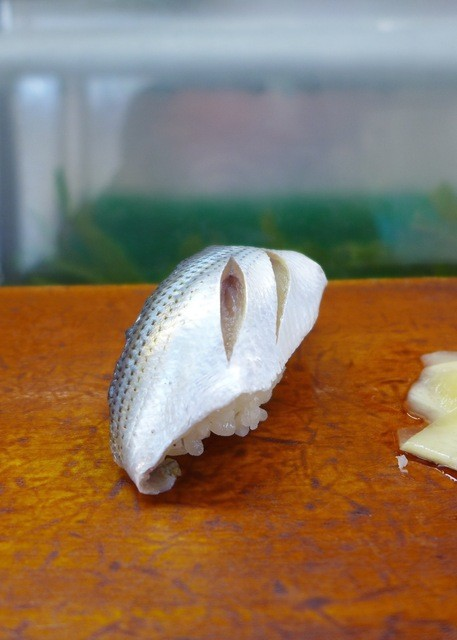spotted-shad: (104, 241, 333, 498)
